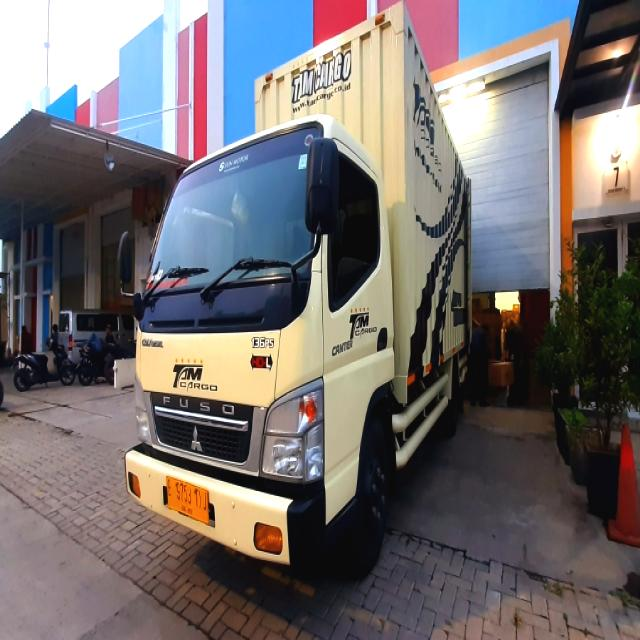truck: (124, 1, 476, 620)
